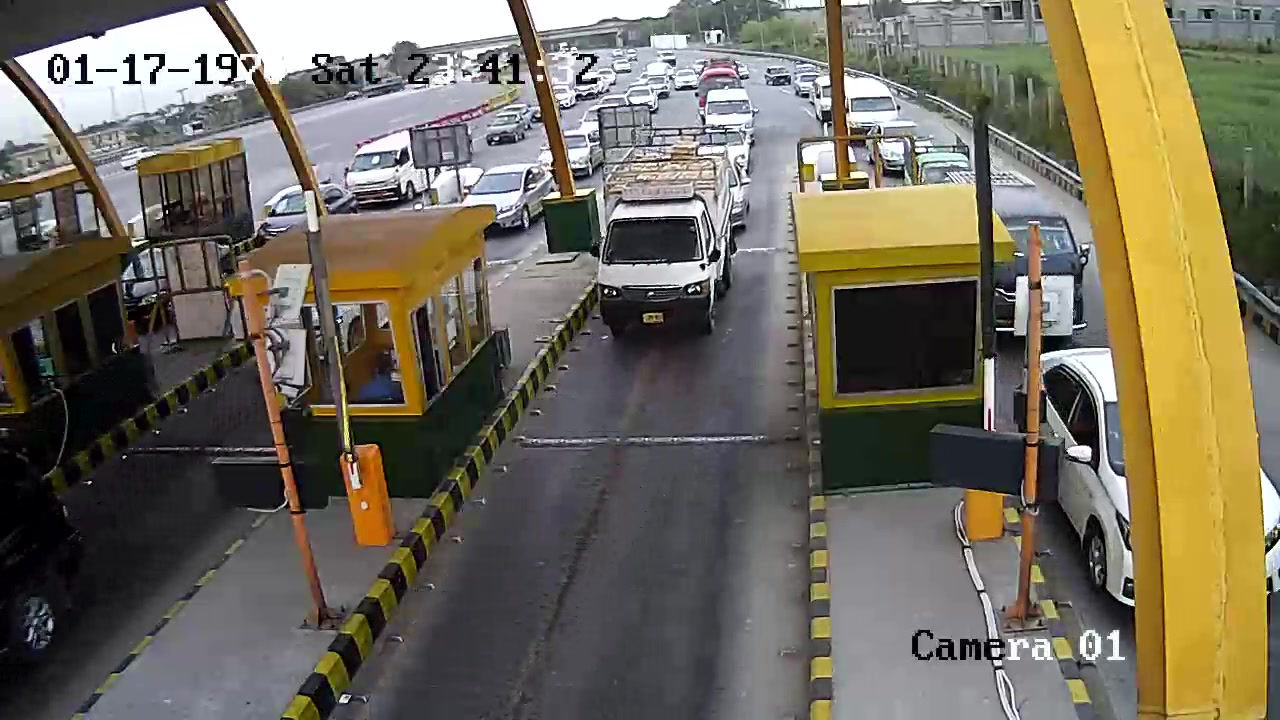F2: (593, 121, 739, 354)
